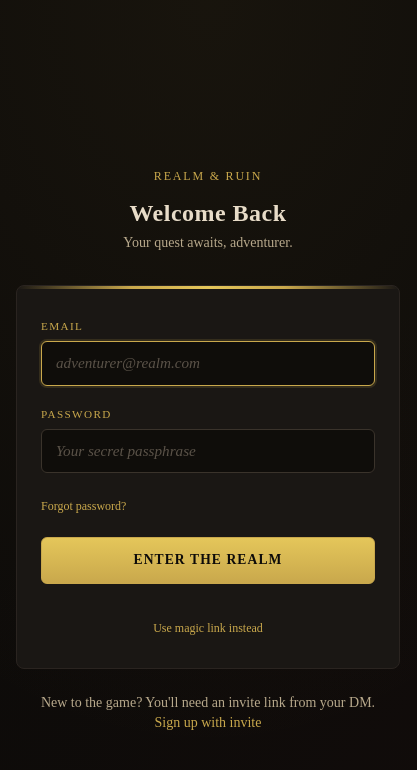
LoginForm › Zod validation › shows email error on empty submit
Click the button with test id "submit-button": (208, 561) x1=41 y1=537 x2=375 y2=584
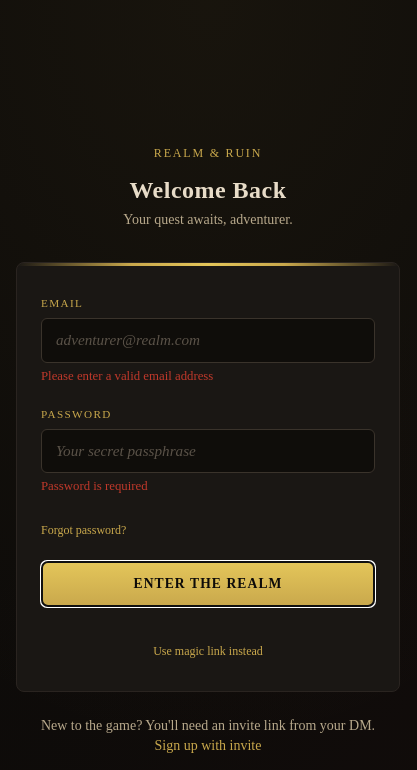
Now the text "Please enter a valid email address" is shown, box x1=41 y1=369 x2=213 y2=383
